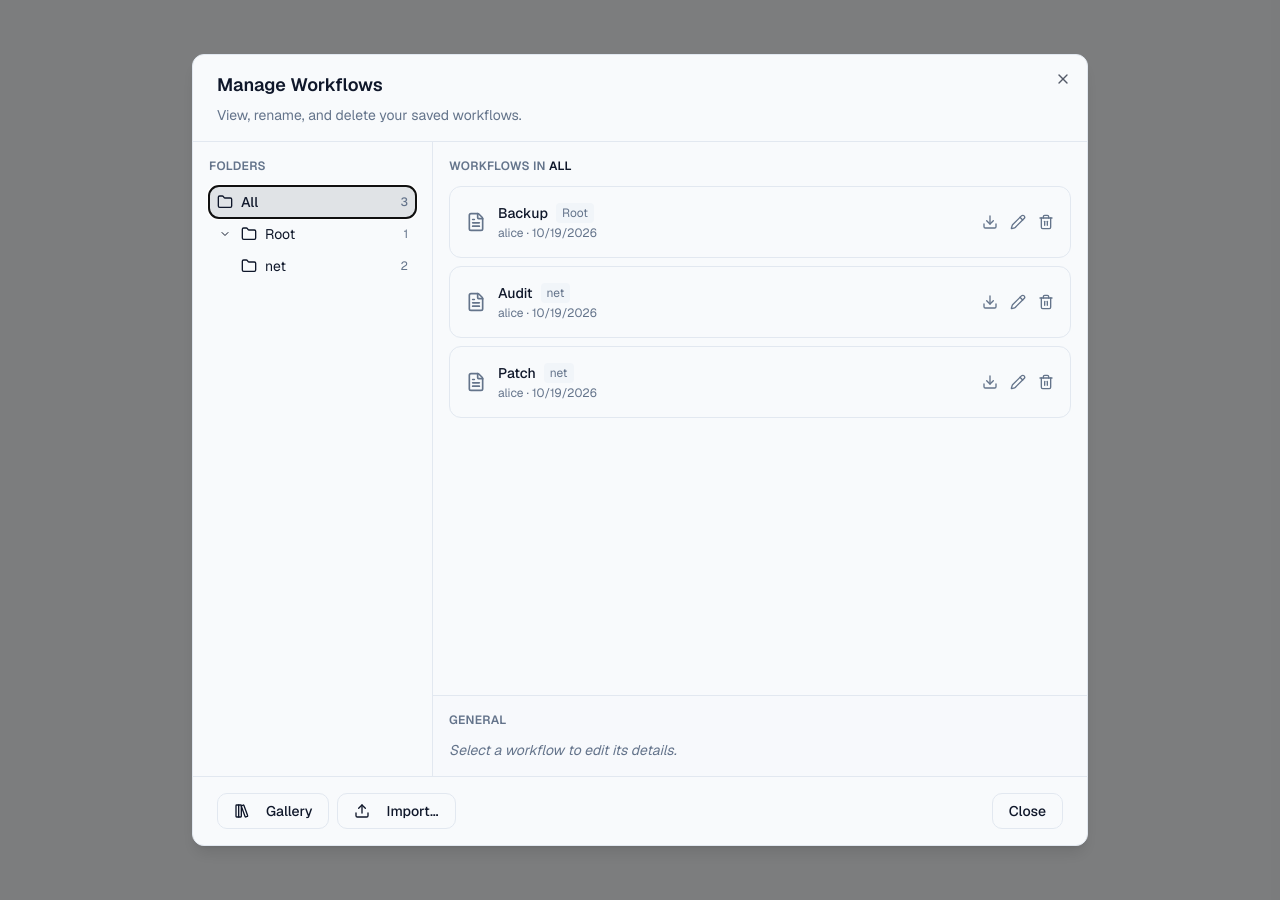
Test: WorkflowManageDialog edit › saves the changes and patches the cached list
Click the button named "Edit workflow" in the row of "Audit" at [1018, 302], box [1010,294,1026,310]
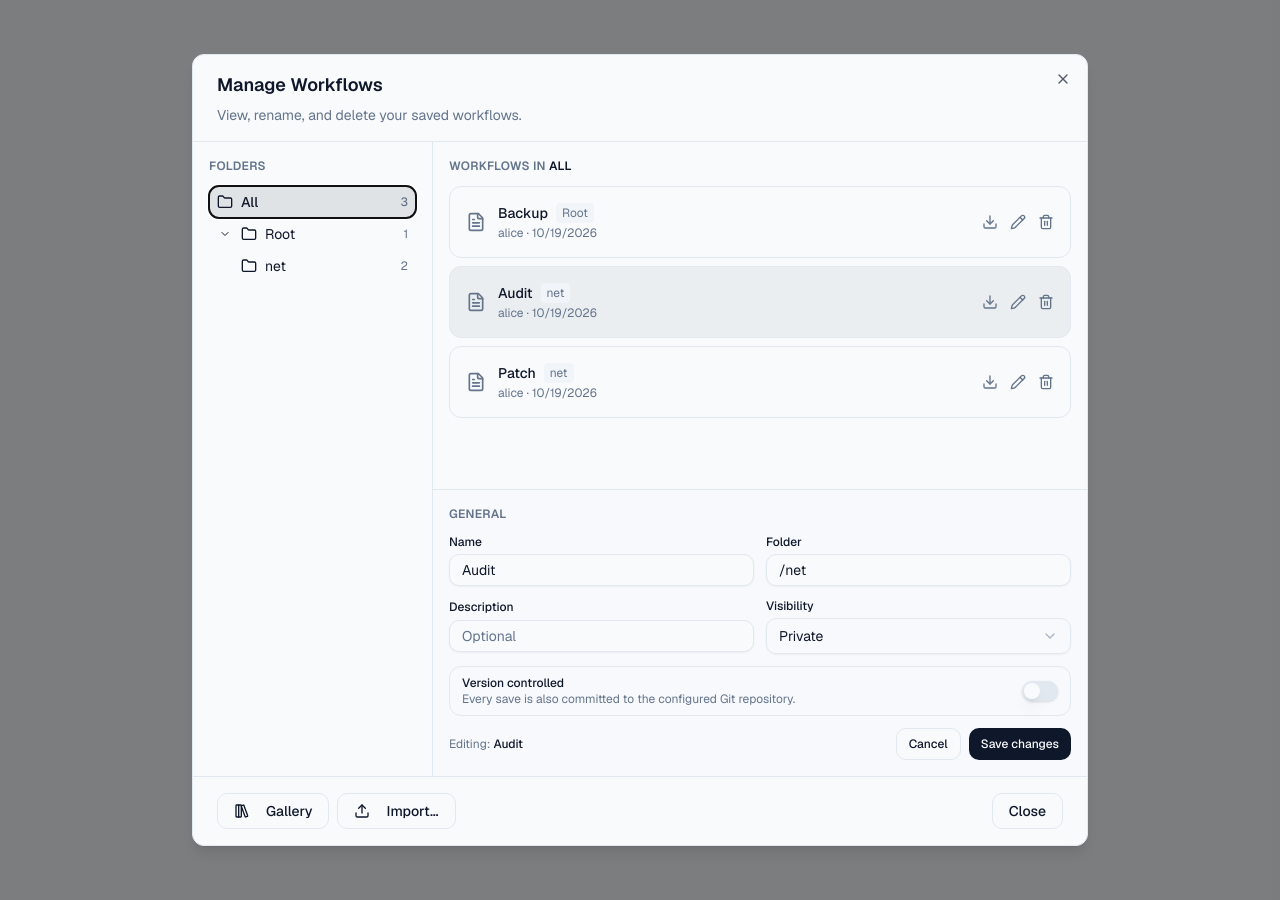
Replace the text in the field labelled "Name" with "Audit v2" at [602, 570], box [449,554,754,586]
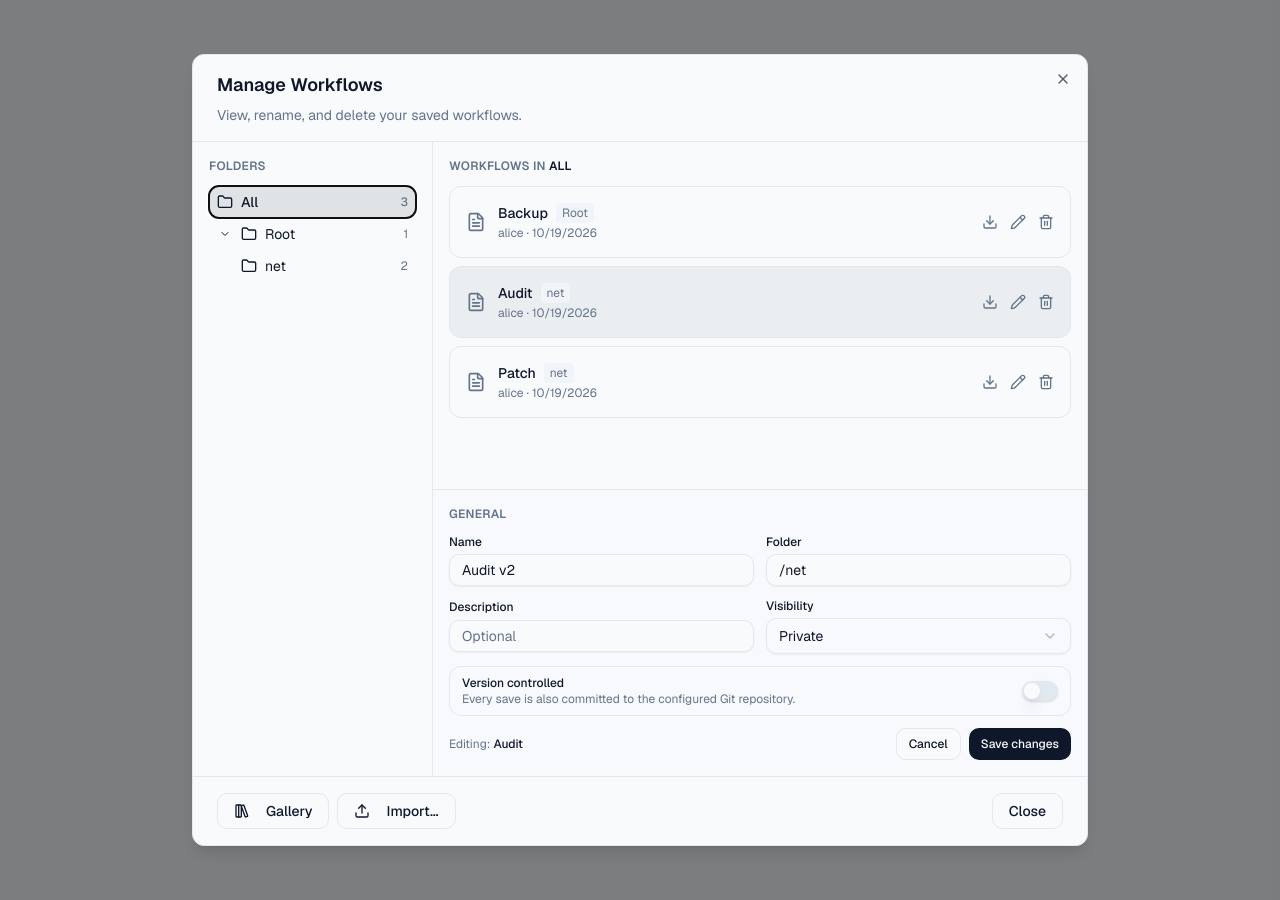
Click the button "Save changes" at [1020, 744], box [969,728,1071,760]
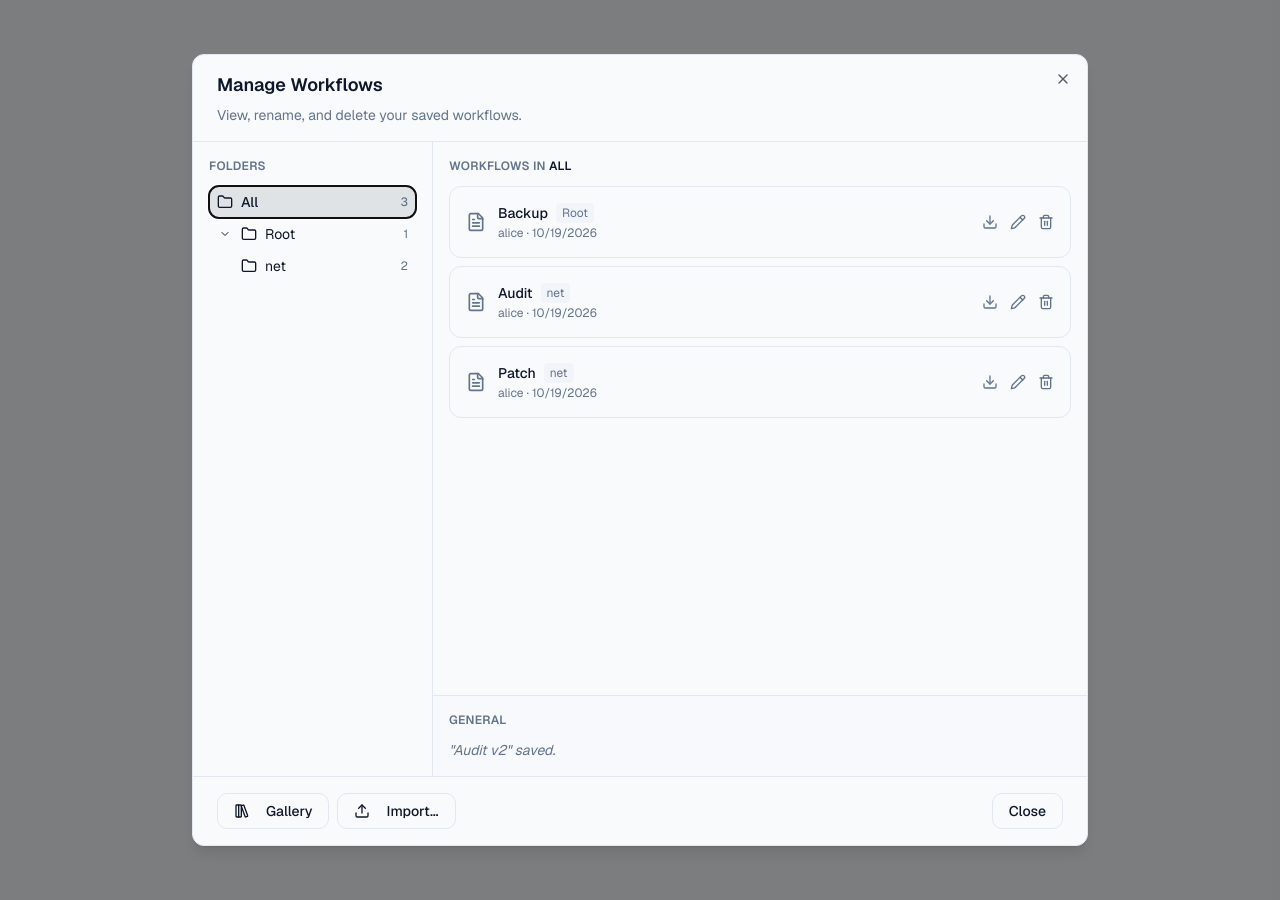
Check: the text "Backup" is shown, box [498,203,548,223]
Check: the text "\"Audit v2\" saved." is shown, box [449,741,555,759]
